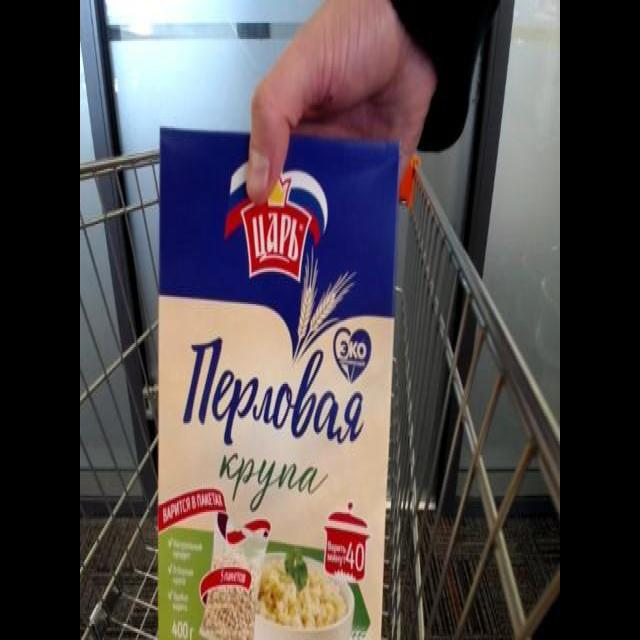Groats: (152, 117, 404, 640)
